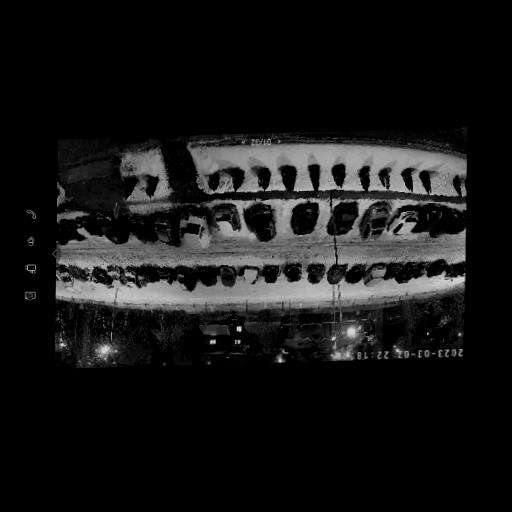busy: (171, 205, 213, 247), (86, 210, 133, 246), (148, 208, 187, 249), (356, 200, 395, 240), (245, 202, 283, 241), (287, 199, 325, 236), (327, 200, 364, 236), (128, 211, 163, 247), (209, 200, 243, 237), (58, 212, 95, 245), (387, 205, 426, 235), (435, 204, 462, 239), (112, 265, 149, 290), (391, 261, 426, 285), (172, 265, 200, 294), (125, 265, 160, 288), (86, 266, 117, 290), (59, 263, 90, 287), (360, 264, 391, 287), (104, 267, 131, 289), (421, 260, 449, 280), (341, 264, 364, 286), (152, 266, 175, 287), (303, 264, 326, 285), (197, 265, 217, 289), (241, 264, 262, 286), (217, 264, 237, 287), (327, 264, 347, 286), (386, 262, 405, 284), (283, 262, 302, 283), (263, 265, 281, 284)
